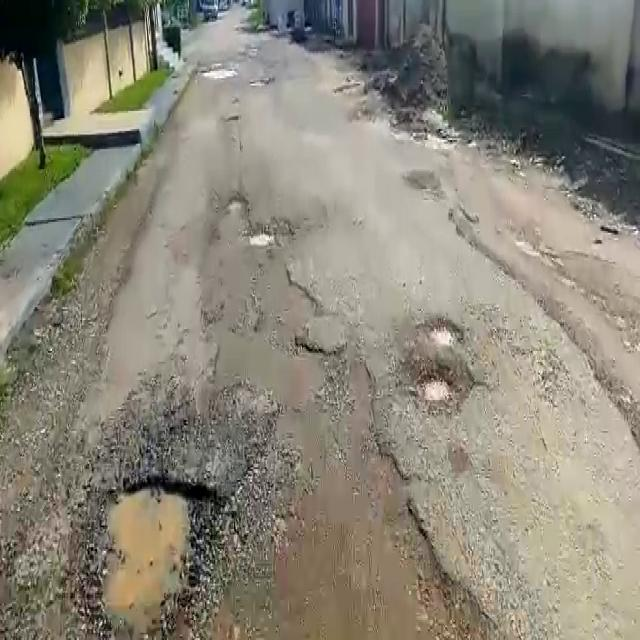Pothole: (93, 474, 215, 632), (416, 364, 455, 414), (423, 316, 459, 349), (248, 230, 274, 250), (225, 196, 249, 214)
